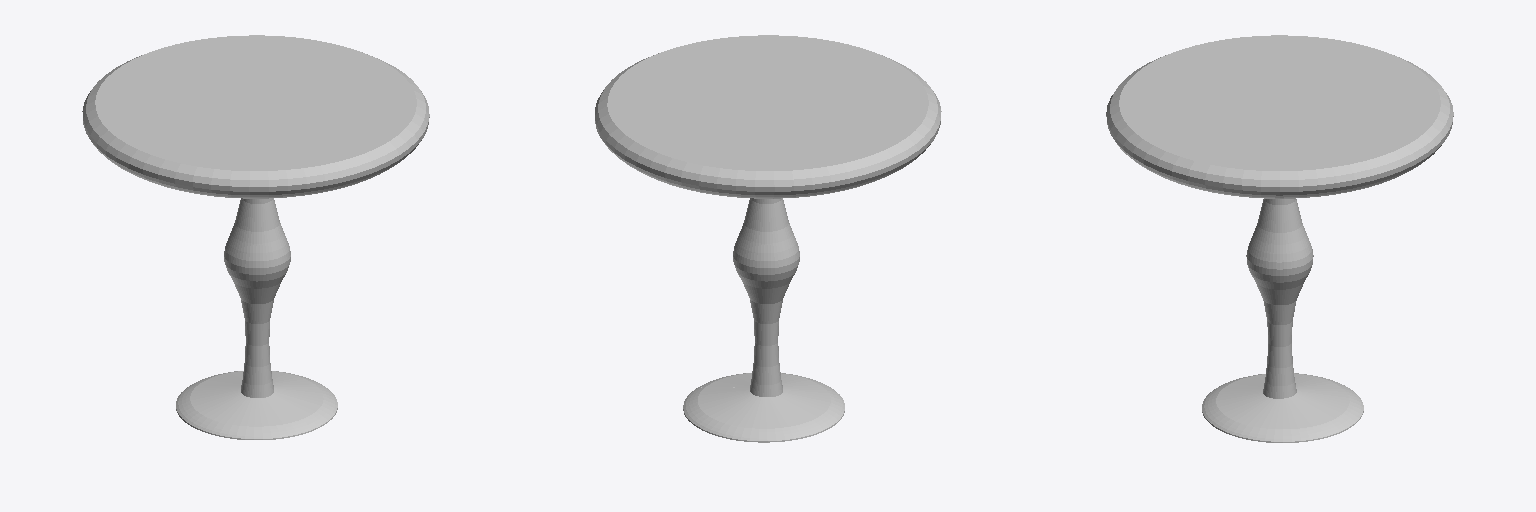
Rendered from table.obj.
3 renders of one model, left to right at view 1: azimuth 30°, elevation 25°; view 2: azimuth 150°, elevation 25°; view 3: azimuth 270°, elevation 25°, orthographic.
Visible parts, largest first — view 1: Lamp_Table; view 2: Lamp_Table; view 3: Lamp_Table.
Part boxes in pixels (bbox=[...]): Lamp_Table: bbox=[82, 35, 429, 439]; Lamp_Table: bbox=[595, 35, 941, 442]; Lamp_Table: bbox=[1106, 35, 1453, 442].
Size of the model in its own units: 1.14 by 1.11 by 1.14.